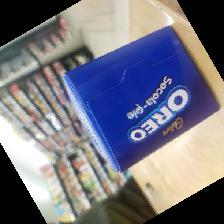Oreo: (62, 26, 221, 174)
